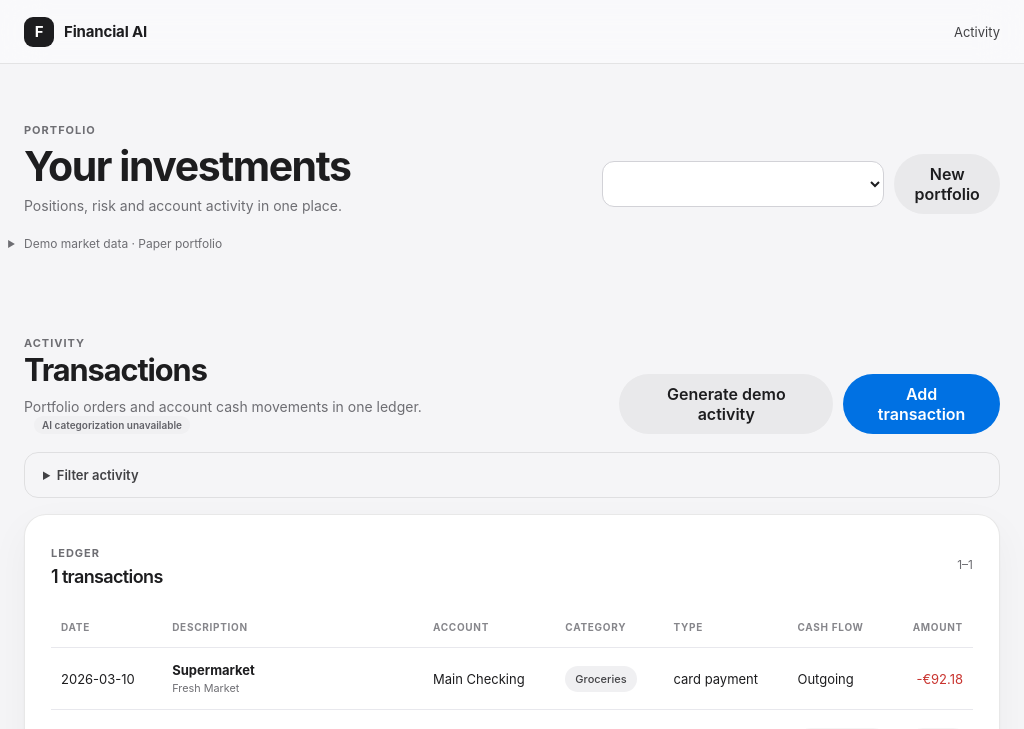
Scenario: generates a reproducible demo bank feed and shows classification results
Click the button "Generate demo activity".
click(726, 404)  # box [619,374,833,434]
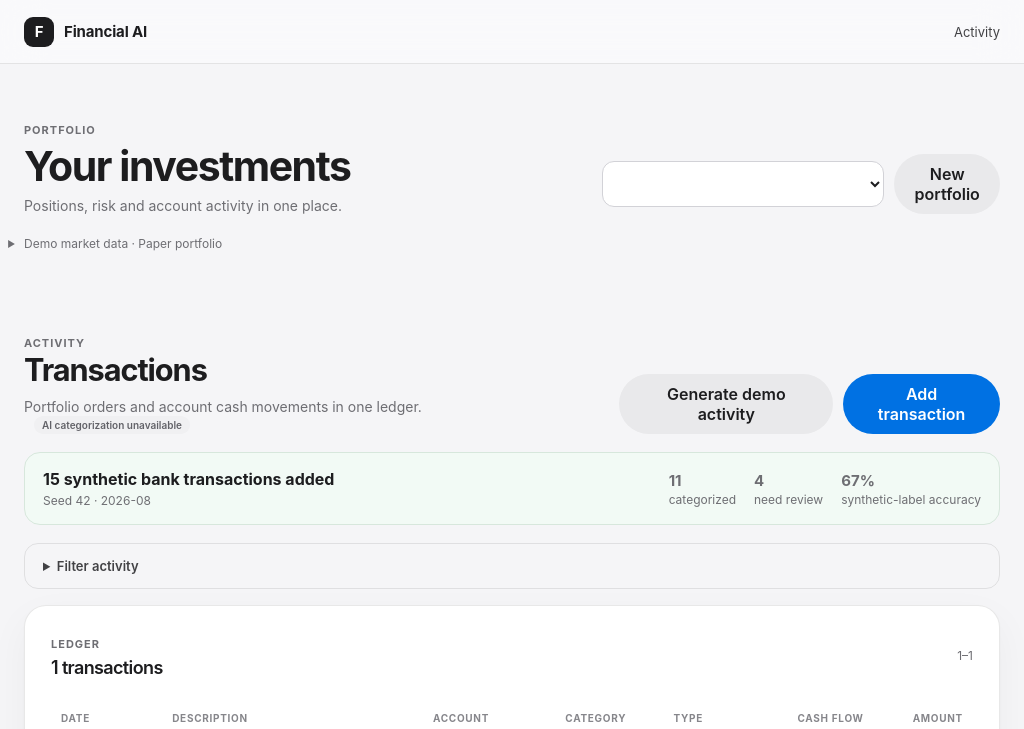
Expected: the text "15 synthetic bank transactions added" is shown, [43,469,334,489]
Expected: the text "Seed 42 · 2026-08" is shown, [43,493,151,508]
Expected: the text "67%" is shown, [841,471,875,490]
